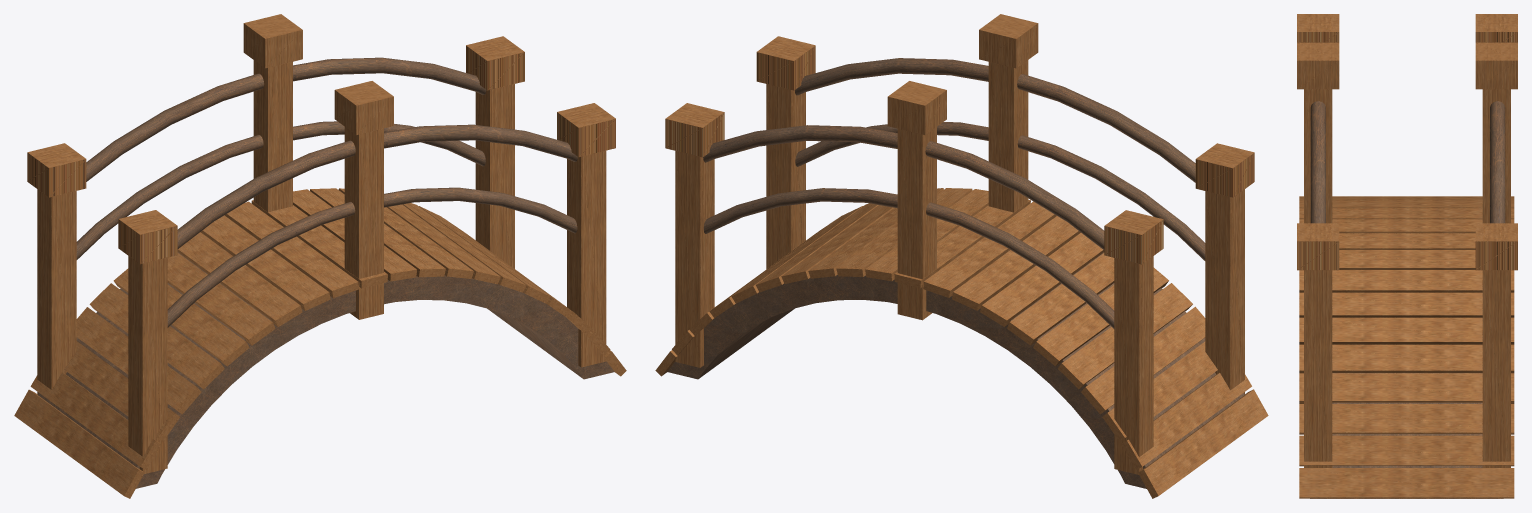
File: bridge.glb
3 views of the same model, side by side, from view 1: azimuth 30°, elevation 25°; view 2: azimuth 150°, elevation 25°; view 3: azimuth 270°, elevation 25° (orthographic). The views are drawn at different scales.
Parts seen in each view (by area): view 1: Cube_3, Circle_0, Cube.004_7, Cube.003_6, Cube.002_5, Cube.005_8, Cube.001_4, Cube.006_9, BezierCircle.004_11, BezierCircle.001_2, BezierCircle.003_10, BezierCircle_1; view 2: Cube_3, Circle_0, Cube.003_6, Cube.004_7, Cube.001_4, Cube.006_9, Cube.002_5, Cube.005_8, BezierCircle.001_2, BezierCircle.004_11, BezierCircle_1, BezierCircle.003_10; view 3: Cube_3, Cube.001_4, Cube.002_5, Cube.005_8, Cube.006_9, BezierCircle.001_2, BezierCircle.004_11, Circle_0, Cube.003_6, Cube.004_7.
Boxes of the visible parts, x1,y1,x2,y2 form: Cube_3: (14, 188, 626, 498); Circle_0: (38, 252, 614, 488); Cube.004_7: (118, 210, 177, 474); Cube.003_6: (27, 143, 86, 394); Cube.002_5: (557, 103, 615, 367); Cube.005_8: (334, 81, 393, 319); Cube.001_4: (466, 36, 524, 268); Cube.006_9: (243, 14, 302, 215); BezierCircle.004_11: (177, 124, 577, 248); BezierCircle.001_2: (86, 57, 486, 181); BezierCircle.003_10: (167, 187, 577, 327); BezierCircle_1: (76, 121, 485, 259); Cube_3: (655, 188, 1268, 498); Circle_0: (667, 252, 1244, 488); Cube.003_6: (1104, 210, 1163, 474); Cube.004_7: (1195, 143, 1254, 394); Cube.001_4: (665, 103, 724, 367); Cube.006_9: (887, 81, 946, 320); Cube.002_5: (756, 36, 815, 269); Cube.005_8: (979, 14, 1038, 215); BezierCircle.001_2: (703, 125, 1104, 249); BezierCircle.004_11: (795, 58, 1195, 182); BezierCircle_1: (703, 188, 1114, 328); BezierCircle.003_10: (795, 122, 1205, 260); Cube_3: (1299, 196, 1514, 498); Cube.001_4: (1475, 223, 1517, 467); Cube.002_5: (1297, 223, 1339, 467); Cube.005_8: (1297, 42, 1339, 223); Cube.006_9: (1475, 42, 1517, 223); BezierCircle.001_2: (1490, 101, 1505, 223); BezierCircle.004_11: (1310, 101, 1325, 223); Circle_0: (1310, 373, 1503, 498); Cube.003_6: (1475, 14, 1517, 42); Cube.004_7: (1297, 14, 1339, 42).
Bounding box in the file's own units: 3.57 × 2.3 × 1.39.
3 materials, 3 textured.
